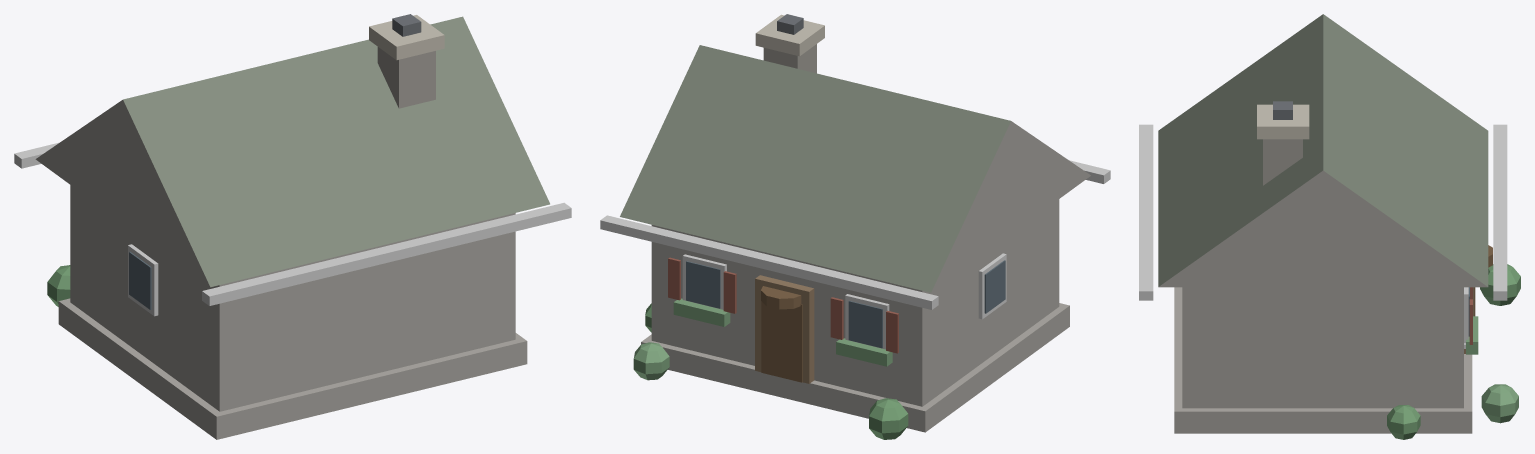
Rendered from cottage_stone.glb.
3 views of the same model, side by side, from view 1: azimuth 30°, elevation 25°; view 2: azimuth 150°, elevation 25°; view 3: azimuth 270°, elevation 25° (orthographic). The views are drawn at different scales.
Parts seen in each view (by area): view 1: Mesh; view 2: Mesh; view 3: Mesh.
Boxes of the visible parts, bbox=[...] form: Mesh: bbox=[14, 14, 571, 439]; Mesh: bbox=[600, 14, 1110, 439]; Mesh: bbox=[1139, 14, 1520, 439].
Size of the model in its own units: 9.93 by 8.25 by 9.48.
